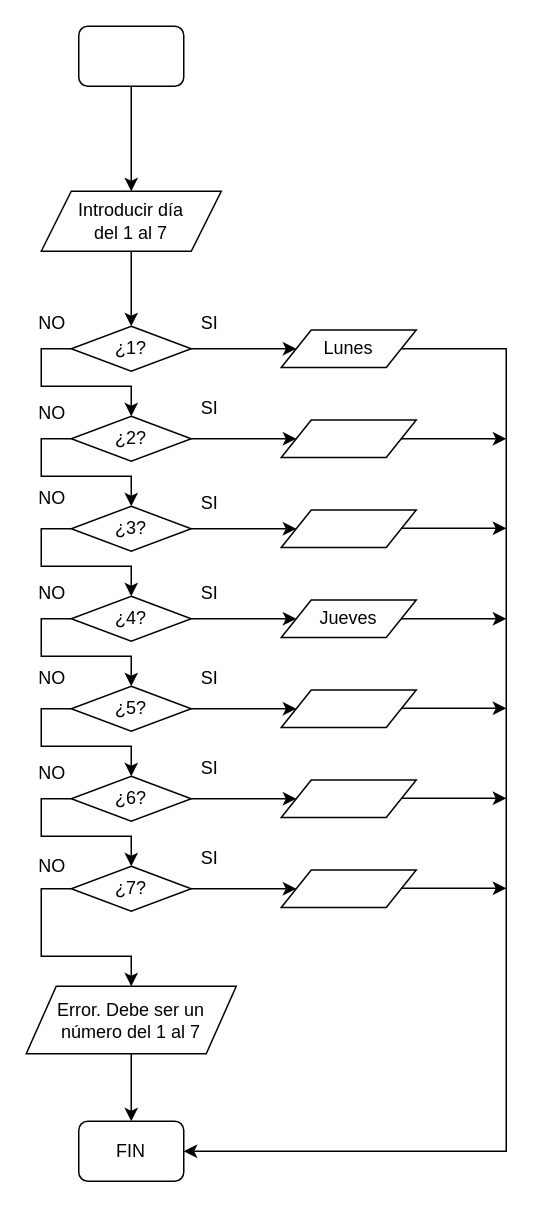
The diagram is 545 pixels wide and 1208 high, and some of its shapes have lost their labels. Here are the shapes that lost their labels. From the top down, the centre of each, then its label:
(x=130, y=55): INICIO
(x=348, y=438): Martes
(x=348, y=528): Miércoles
(x=348, y=708): Viernes
(x=348, y=798): Sábado
(x=348, y=888): Domingo
